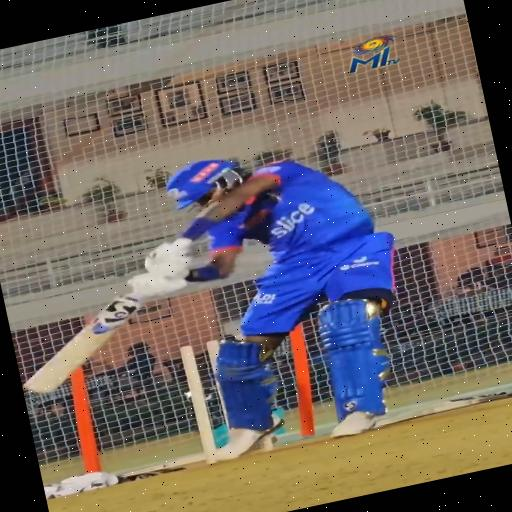Cricket bat: (23, 293, 142, 393)
